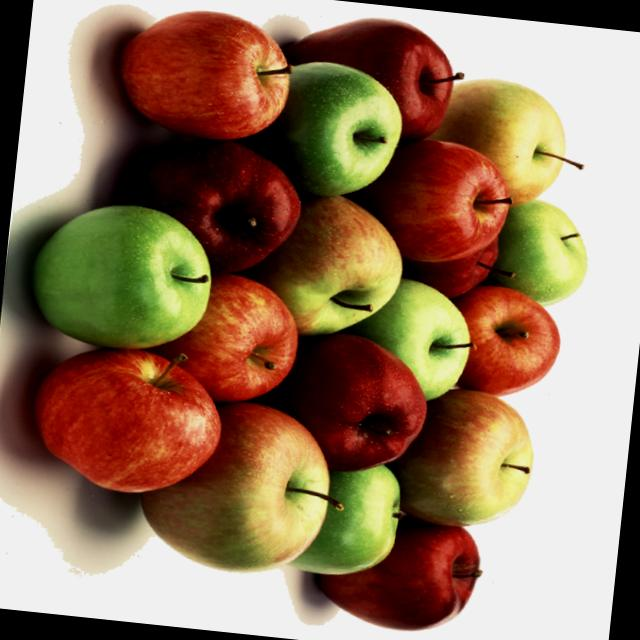apple: (133, 394, 343, 580), (26, 337, 226, 503), (22, 194, 220, 359), (105, 0, 299, 148), (312, 500, 498, 640), (396, 384, 556, 536), (275, 332, 436, 482), (346, 132, 518, 270), (256, 194, 408, 345), (139, 266, 303, 404), (257, 56, 406, 202), (450, 284, 565, 404)
